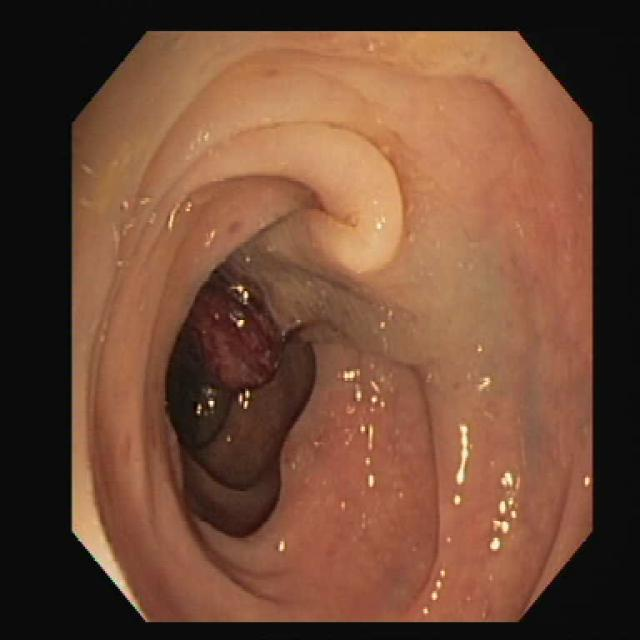tumor: (178, 280, 283, 416)
